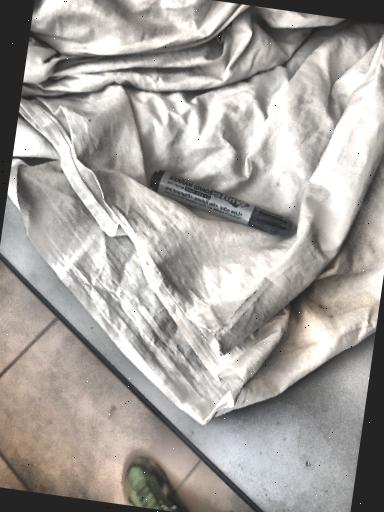marcador negro: (149, 170, 292, 237)
